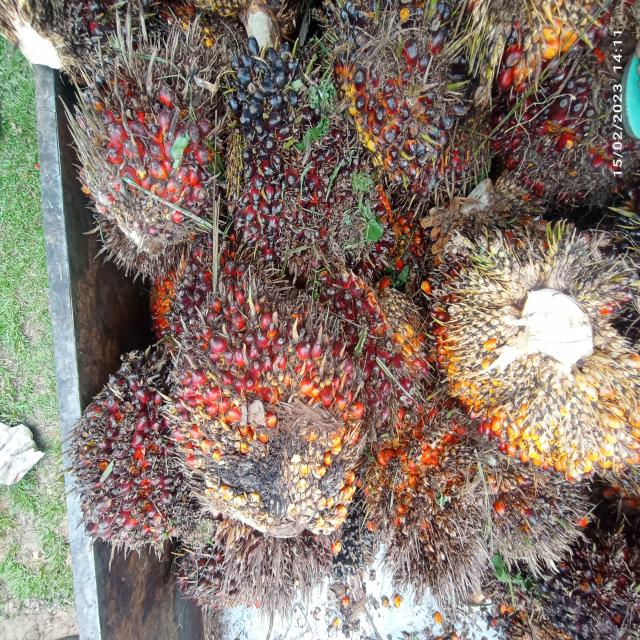fraksi 00: (217, 24, 366, 282), (311, 1, 467, 198)
fraksi 1: (54, 343, 177, 599)
fraksi 3: (150, 232, 374, 584), (58, 15, 230, 266)
fraksi 4: (360, 388, 496, 604)
